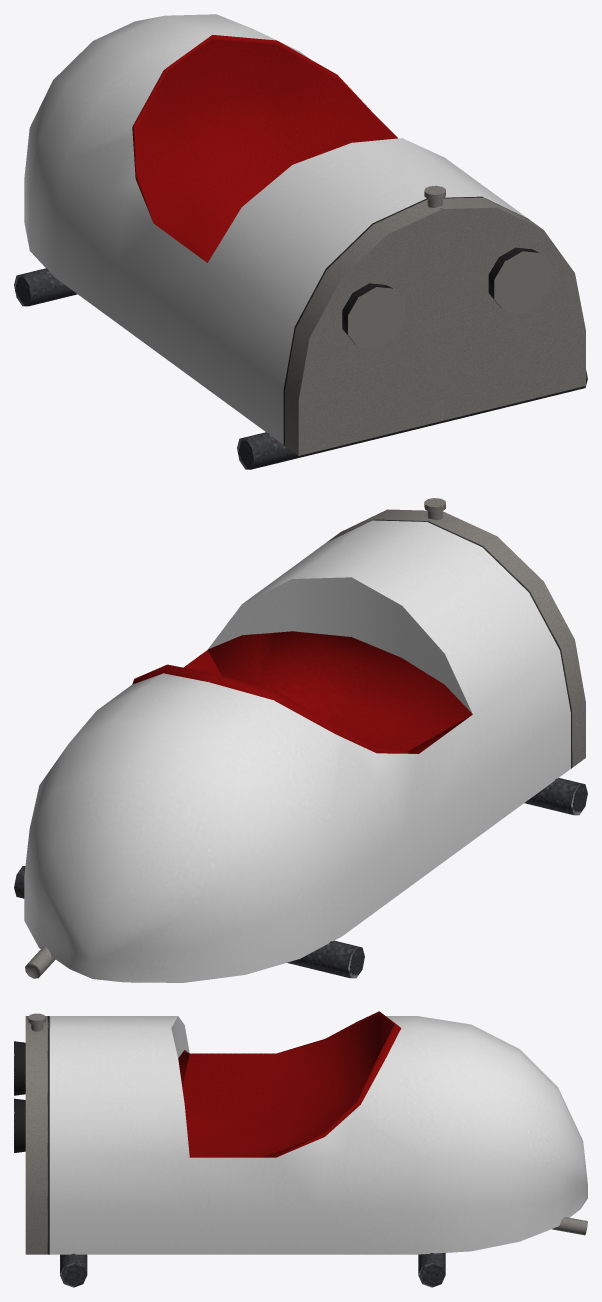
The model's file is RaceCar.dae.
3 renders of one model, top to bottom at view 1: azimuth 30°, elevation 25°; view 2: azimuth 150°, elevation 25°; view 3: azimuth 270°, elevation 25°, orthographic. The views are drawn at different scales.
Parts seen in each view (by area): view 1: CHASSIS_2_Parts, CHASSIS_2_Paint; view 2: CHASSIS_2_Paint, CHASSIS_2_Parts; view 3: CHASSIS_2_Paint, CHASSIS_2_Parts.
Part boxes in pixels (bbox=[...]): CHASSIS_2_Parts: bbox=[14, 34, 587, 469]; CHASSIS_2_Paint: bbox=[24, 14, 527, 444]; CHASSIS_2_Paint: bbox=[24, 520, 570, 982]; CHASSIS_2_Parts: bbox=[14, 498, 587, 978]; CHASSIS_2_Paint: bbox=[49, 1016, 587, 1254]; CHASSIS_2_Parts: bbox=[14, 1011, 587, 1287].
Size of what is drawn, in the model's own units: 1.79 by 3.31 by 1.31.
